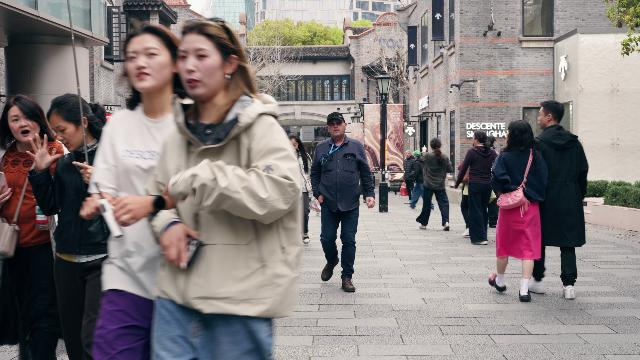person: (147, 18, 307, 360), (78, 24, 190, 360), (23, 93, 110, 360), (0, 93, 64, 360), (310, 112, 377, 292), (530, 100, 589, 301), (488, 119, 549, 302), (454, 130, 499, 245), (416, 137, 454, 231), (488, 136, 499, 229)
